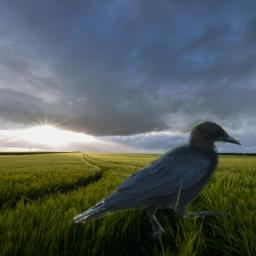Crow: (73, 120, 241, 239)
